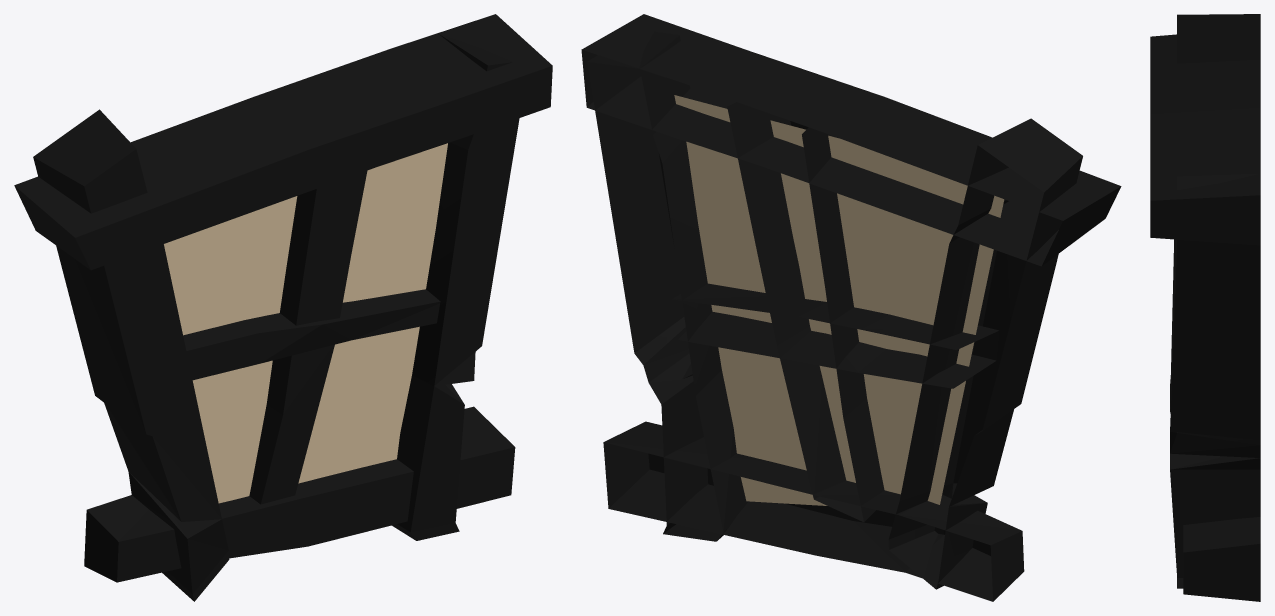
Rendered from WF_LP_HT_Build_Window.006.fbx.
3 renders of one model, left to right at view 1: azimuth 30°, elevation 25°; view 2: azimuth 150°, elevation 25°; view 3: azimuth 270°, elevation 25°, orthographic. The views are drawn at different scales.
Visible parts, largest first — view 1: WF_LP_HT_Build_Window.006; view 2: WF_LP_HT_Build_Window.006; view 3: WF_LP_HT_Build_Window.006.
Boxes of the visible parts, x1,y1,x2,y2 form: WF_LP_HT_Build_Window.006: (14, 14, 552, 601); WF_LP_HT_Build_Window.006: (581, 14, 1121, 601); WF_LP_HT_Build_Window.006: (1150, 14, 1260, 601).
Size of the model in its own units: 1.41 by 1.32 by 0.3024.
